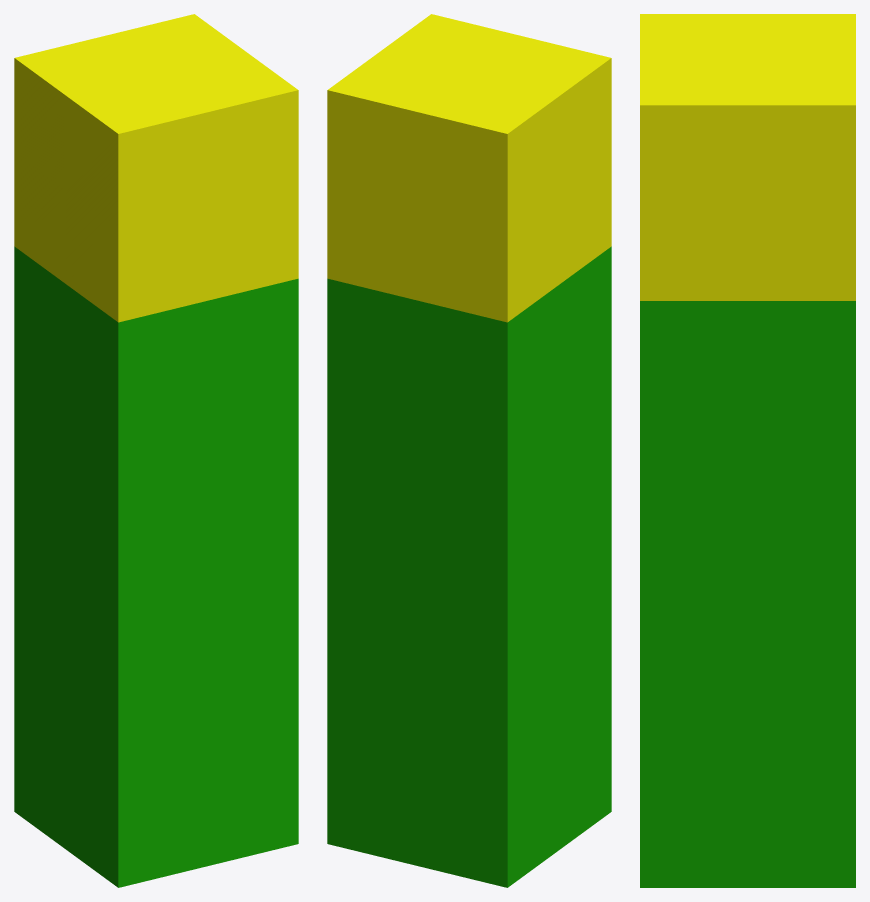
The model's file is Flax (Stage 3).obj.
The picture shows the model from 3 angles, left to right: view 1: azimuth 30°, elevation 25°; view 2: azimuth 150°, elevation 25°; view 3: azimuth 270°, elevation 25°; orthographic projection. The views are drawn at different scales.
Bounding box in the file's own units: 0.1 × 0.4 × 0.1.
Materials: 1 (1 with a texture image).
